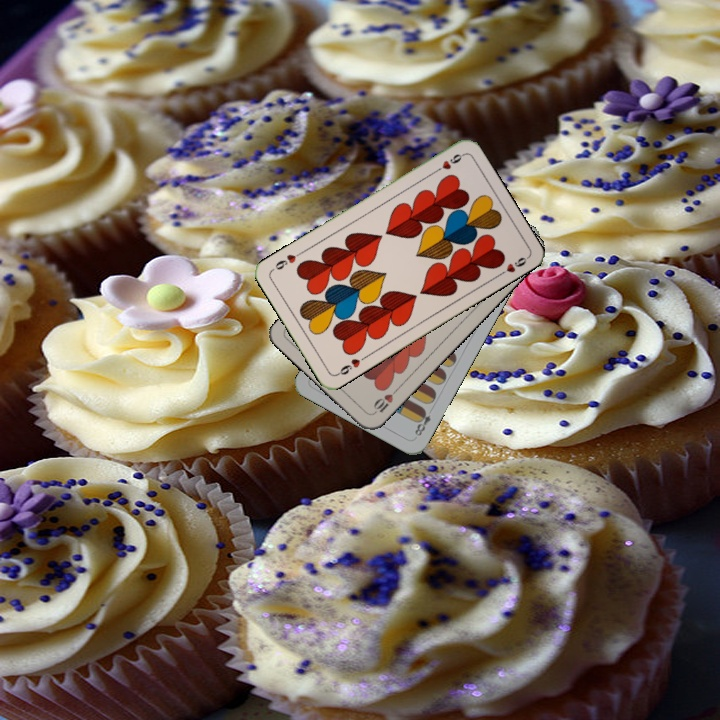E8: (411, 405, 434, 439)
H10: (369, 384, 401, 417)
H9: (332, 352, 369, 378), (429, 150, 466, 176)
